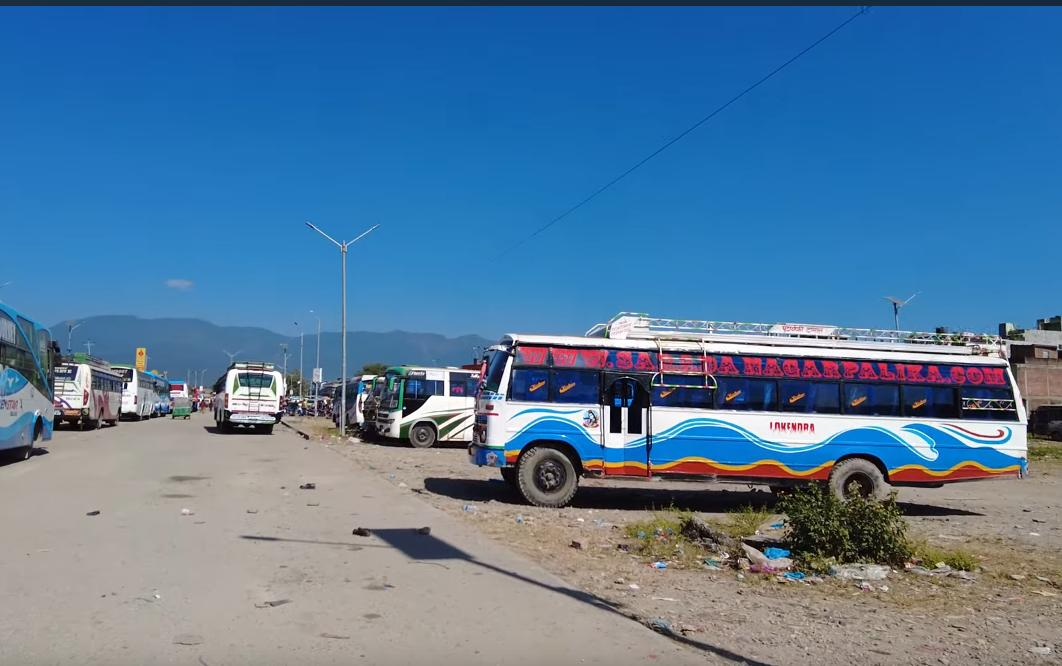bus: (468, 308, 1045, 510), (375, 361, 491, 454), (0, 299, 60, 474), (207, 360, 287, 437), (49, 357, 127, 435)
